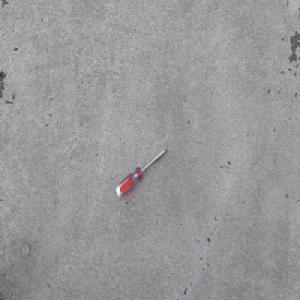Screwdriver: (116, 147, 169, 198)
